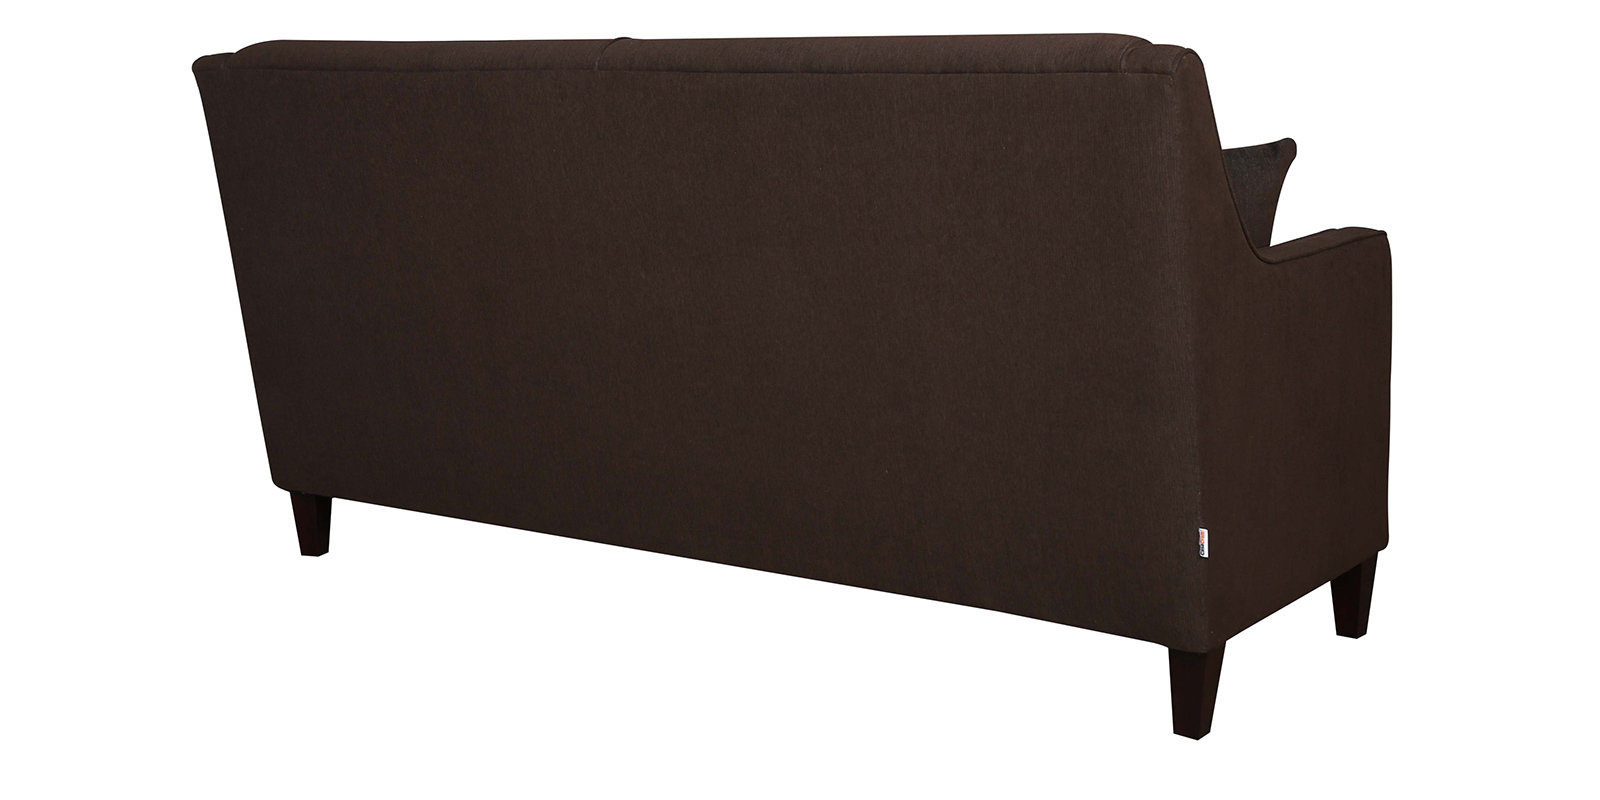Oscar Three Seater Sofa in Chestnut Brown Colour by CasaCraft: (192, 31, 1390, 741)
